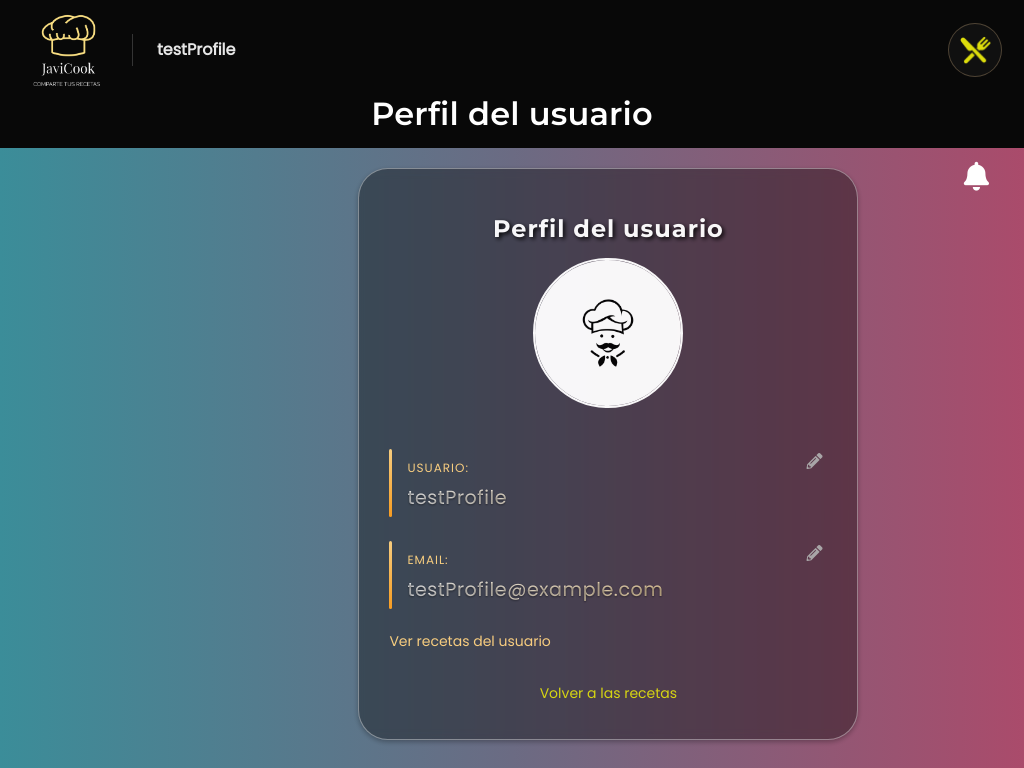
Scenario: Verificacion de perfil de usuario › Deberia mostrar mensaje de error al no encontrar recetas del usuario
This screenshot has width=1024, height=768.
Click the link with class "link-lista-recetas" at (470, 641), box [389,631,550,651]
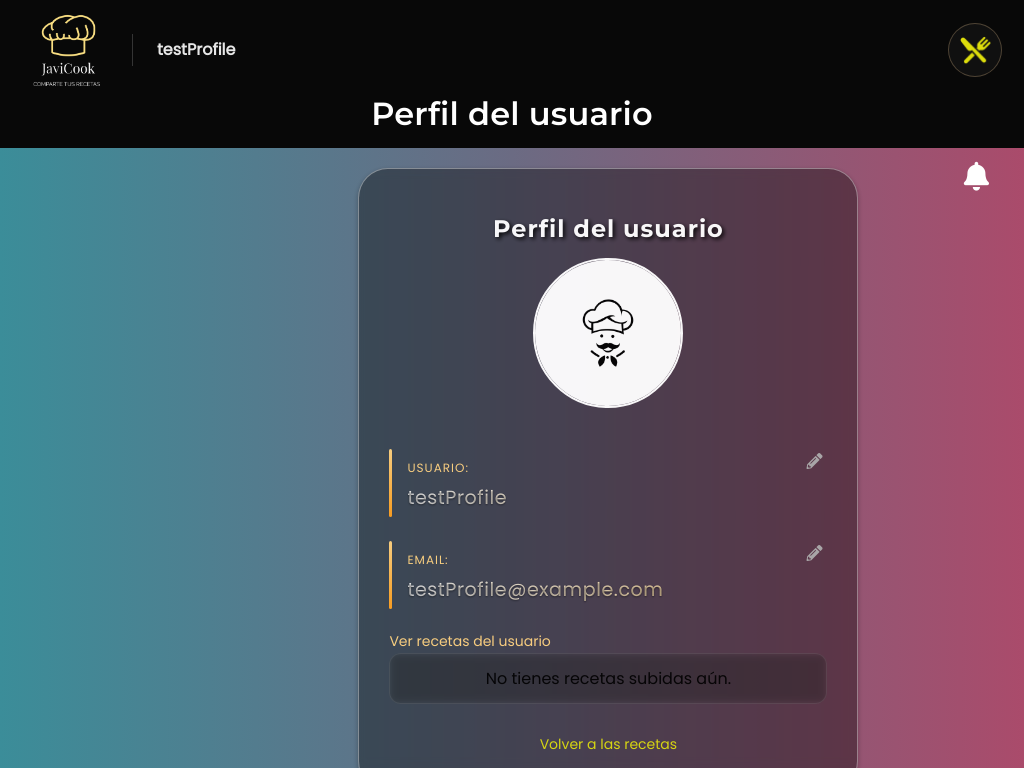
Expected: the text "No tienes recetas subidas aún." is shown, [486,667,731,690]
